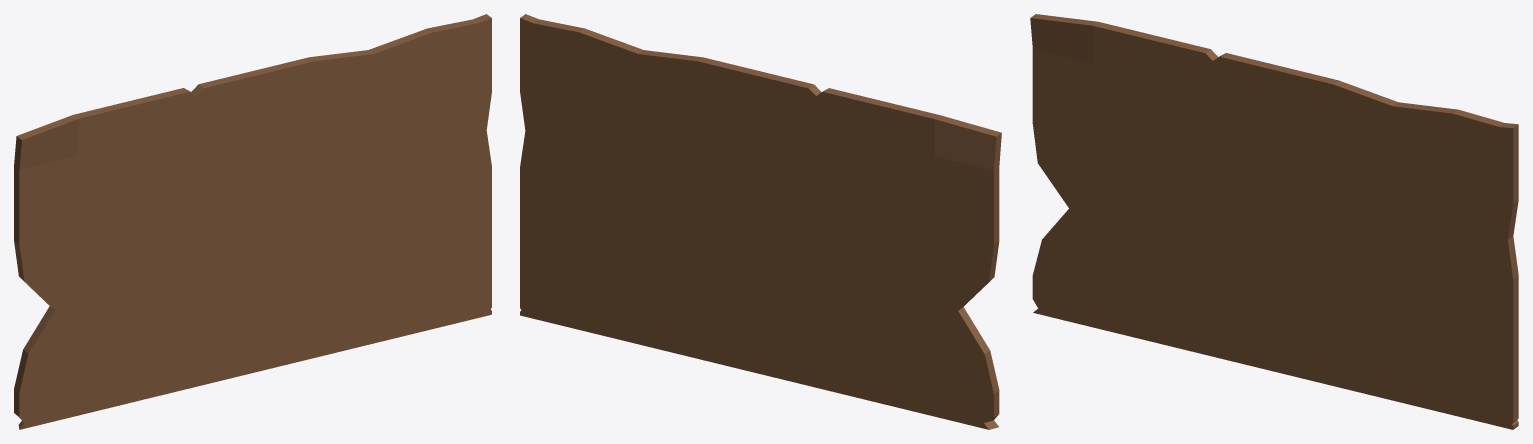
File: Pancarte.fbx
The picture shows the model from 3 angles, left to right: view 1: azimuth 30°, elevation 25°; view 2: azimuth 150°, elevation 25°; view 3: azimuth 330°, elevation 25°; orthographic projection.
Parts seen in each view (by area): view 1: Cube; view 2: Cube; view 3: Cube.
Boxes of the visible parts, x1=… form: Cube: x1=14, y1=14, x2=491, y2=429; Cube: x1=520, y1=14, x2=1001, y2=429; Cube: x1=1030, y1=14, x2=1518, y2=429.
Size of the model in its own units: 50 by 30 by 1.46.
